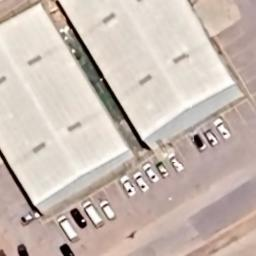sedan: (188, 127, 208, 154), (140, 160, 160, 186), (213, 116, 233, 141), (70, 206, 90, 230), (118, 174, 137, 197), (202, 124, 220, 148), (166, 153, 186, 174), (21, 208, 42, 227), (132, 171, 150, 193), (155, 157, 170, 180), (58, 241, 76, 256), (17, 242, 28, 256)
van: (56, 213, 80, 244), (82, 200, 105, 230), (99, 199, 118, 221)
